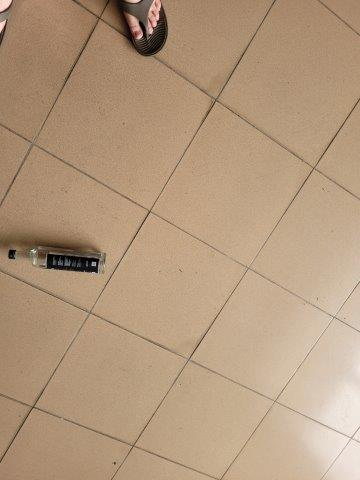botolkaca: (9, 245, 107, 272)
